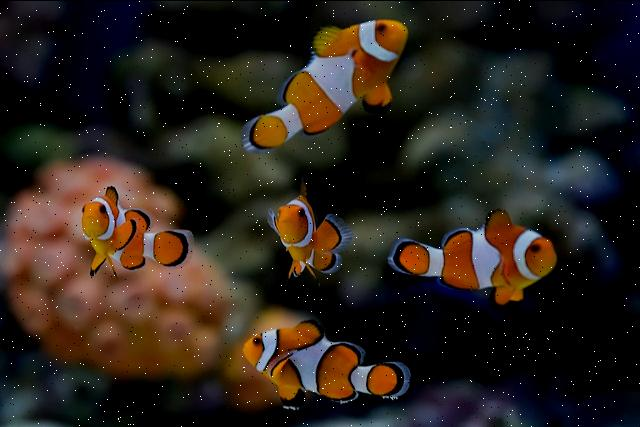Mulut: (73, 210, 119, 243), (387, 9, 423, 51), (266, 211, 306, 246), (540, 242, 574, 276), (232, 332, 260, 364)
Sirip Anal: (301, 102, 343, 144), (436, 257, 472, 300), (319, 382, 356, 416), (120, 248, 154, 278)
Sirip Dada: (307, 207, 355, 262), (115, 217, 143, 255)
Sirip Ekor: (222, 98, 296, 180), (377, 206, 435, 288), (364, 349, 422, 419), (158, 212, 200, 286), (308, 244, 340, 280)
Sirip Perut: (361, 76, 402, 124), (72, 250, 126, 285), (265, 382, 311, 423), (486, 276, 532, 312)
Sirip Punggung: (272, 12, 346, 102), (287, 303, 367, 361), (444, 195, 520, 249), (102, 172, 156, 230)
